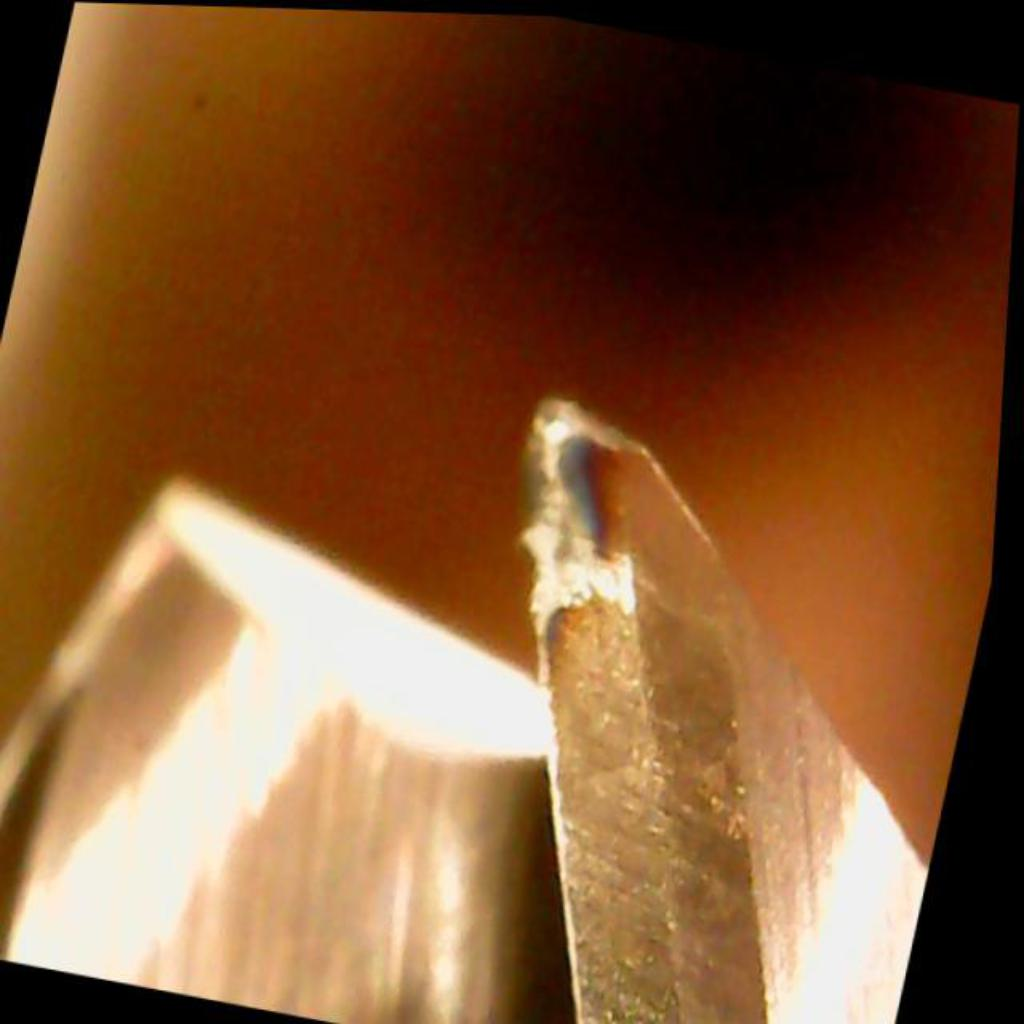Tool-wear-class-1: (407, 379, 832, 957)
